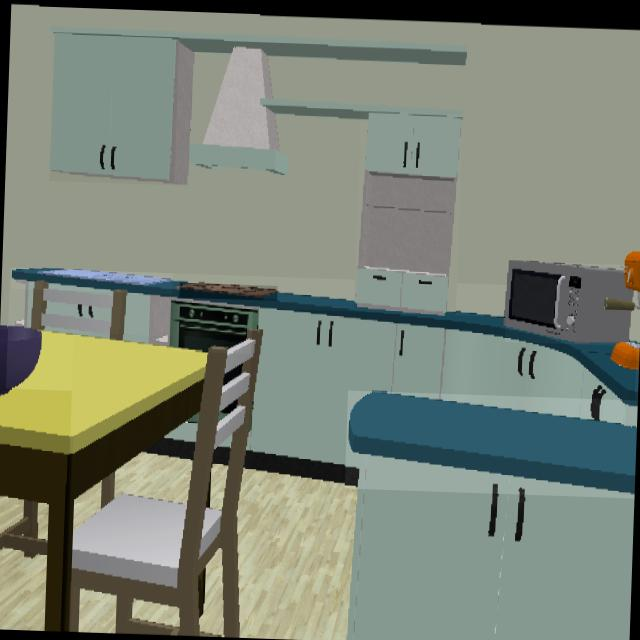cabinet: (247, 309, 633, 634)
chair: (63, 340, 254, 636), (354, 111, 462, 316), (51, 33, 178, 184), (41, 288, 176, 346)
countertop: (9, 269, 638, 409), (346, 391, 637, 496)
microwave: (505, 261, 640, 345)
oven: (173, 304, 258, 351)
sink: (11, 269, 172, 293)
stove: (179, 283, 277, 299)
table: (0, 329, 210, 632)
